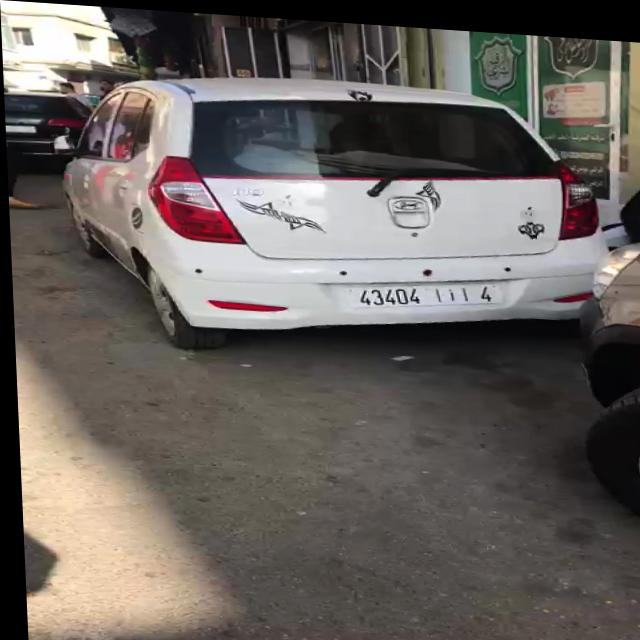License-Plate: (343, 277, 500, 302)
